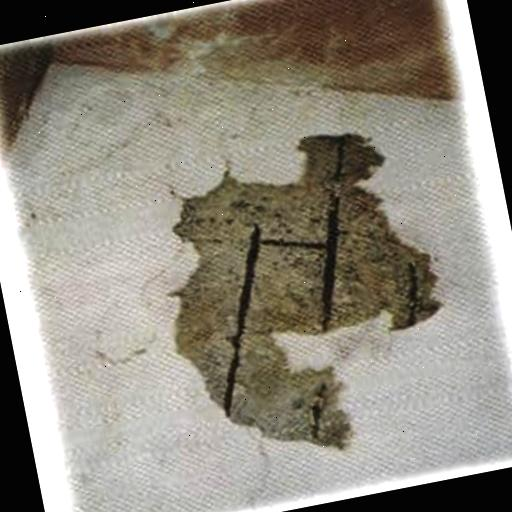spalling: (168, 125, 445, 450)
